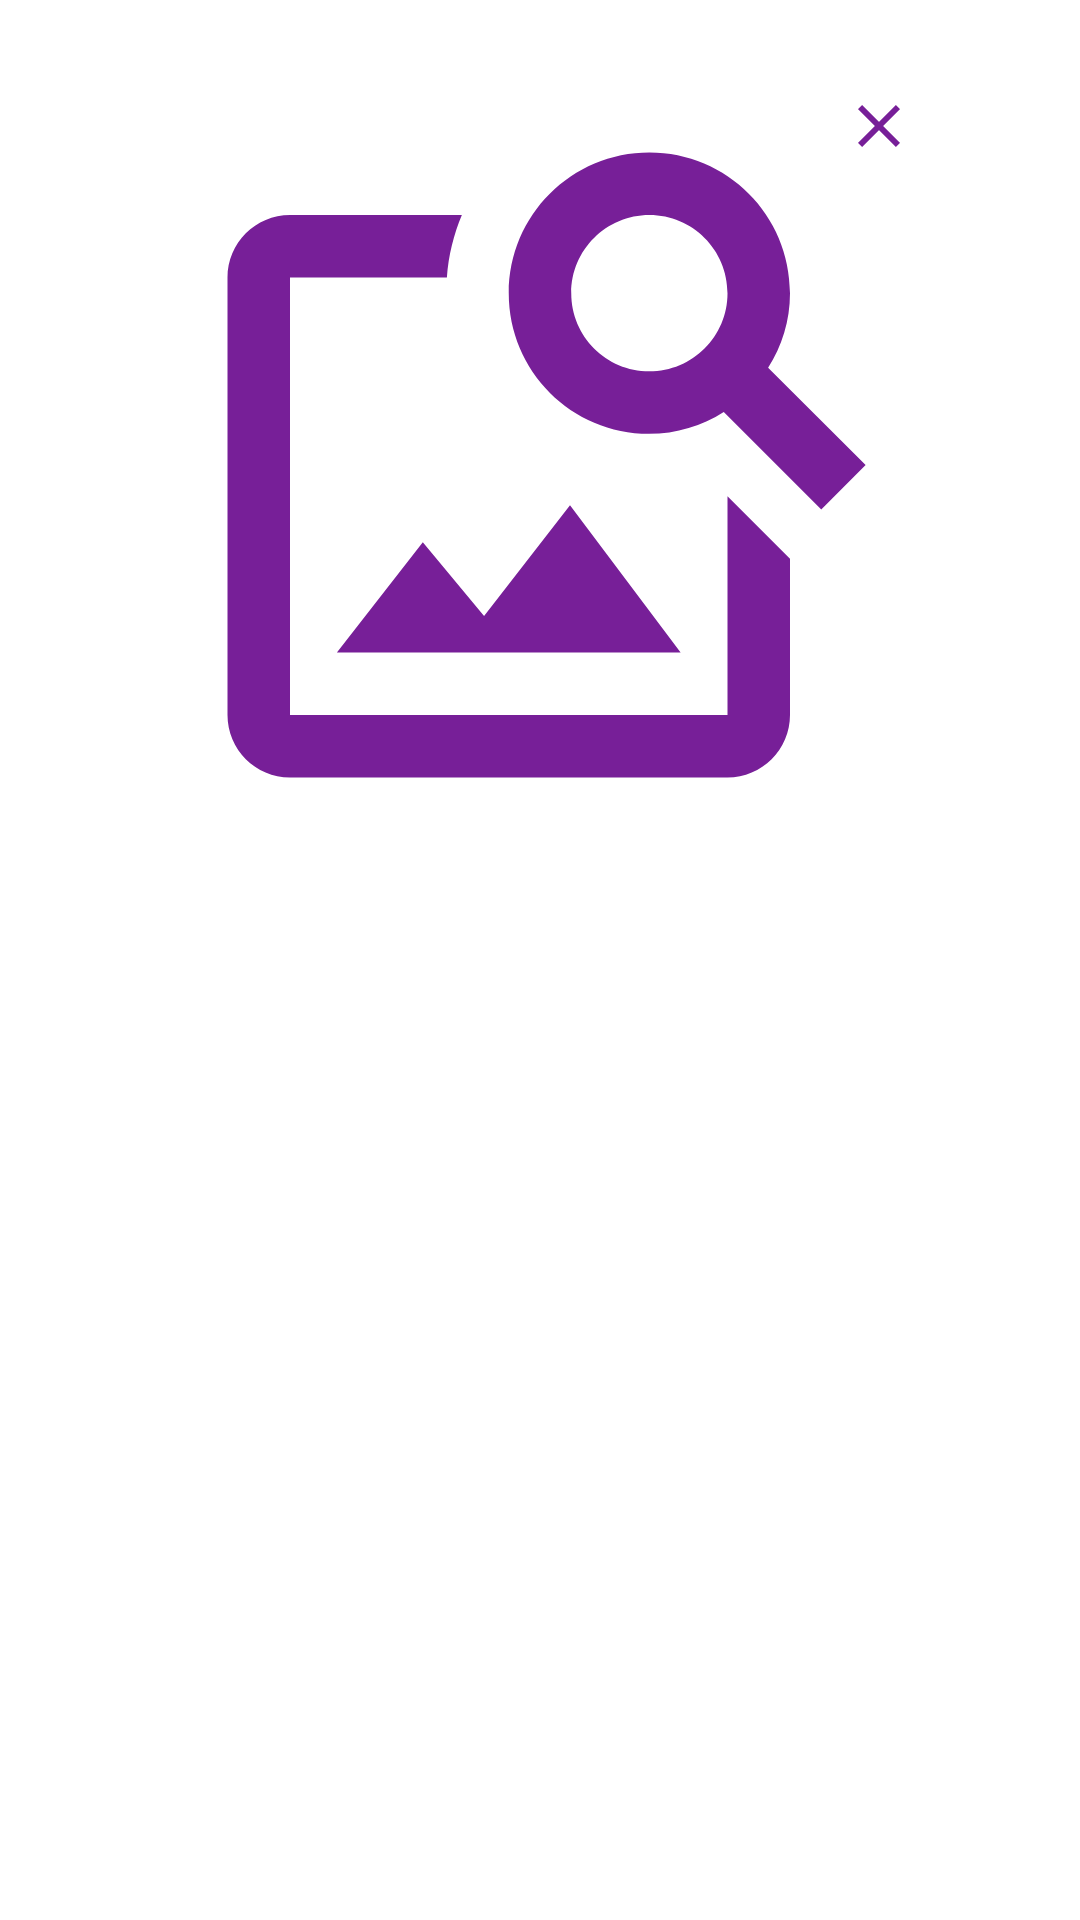

Locate icon controls on the screen. Image size 1080 × 1920, boxes as (x1, y1, x2, y2).
close: (858, 105, 900, 147)
